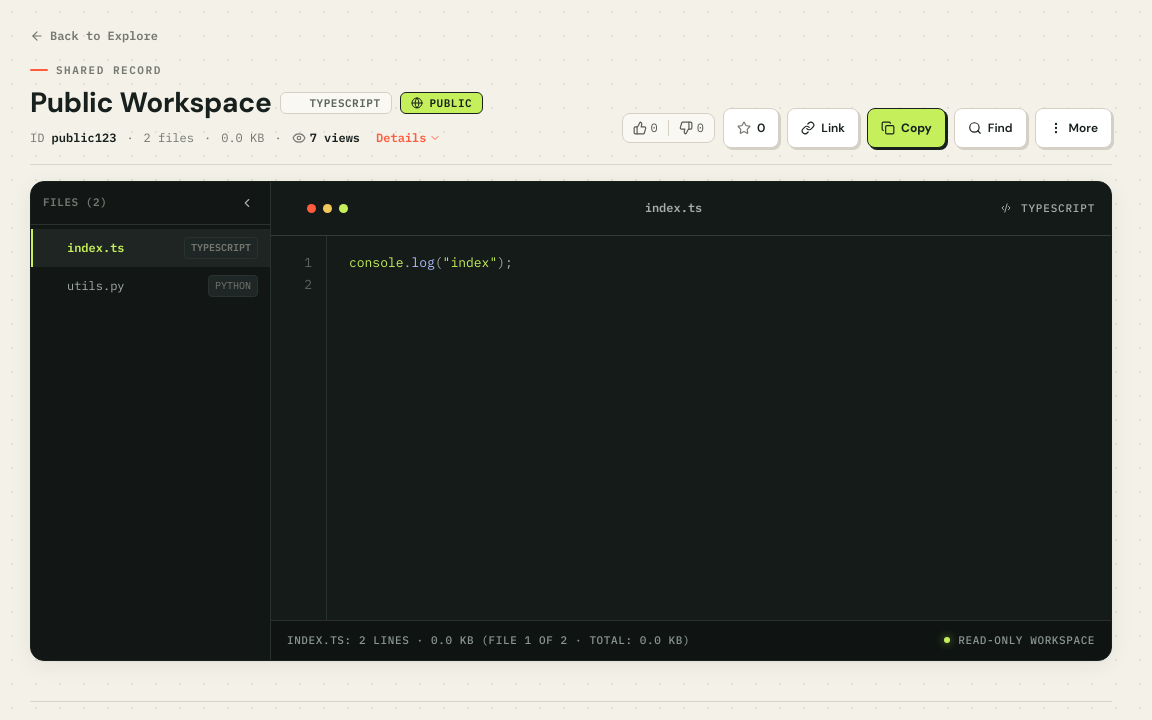
Test: Sharing Everywhere UI › CLIP-02: clipboard denial opens the manual-copy dialog, never announces success, and announces failure
Expected: the heading "Public Workspace" is shown, [30,86,272,120]
Click the button named "copy index.ts". click: (906, 128)
box: [867,108,946,148]
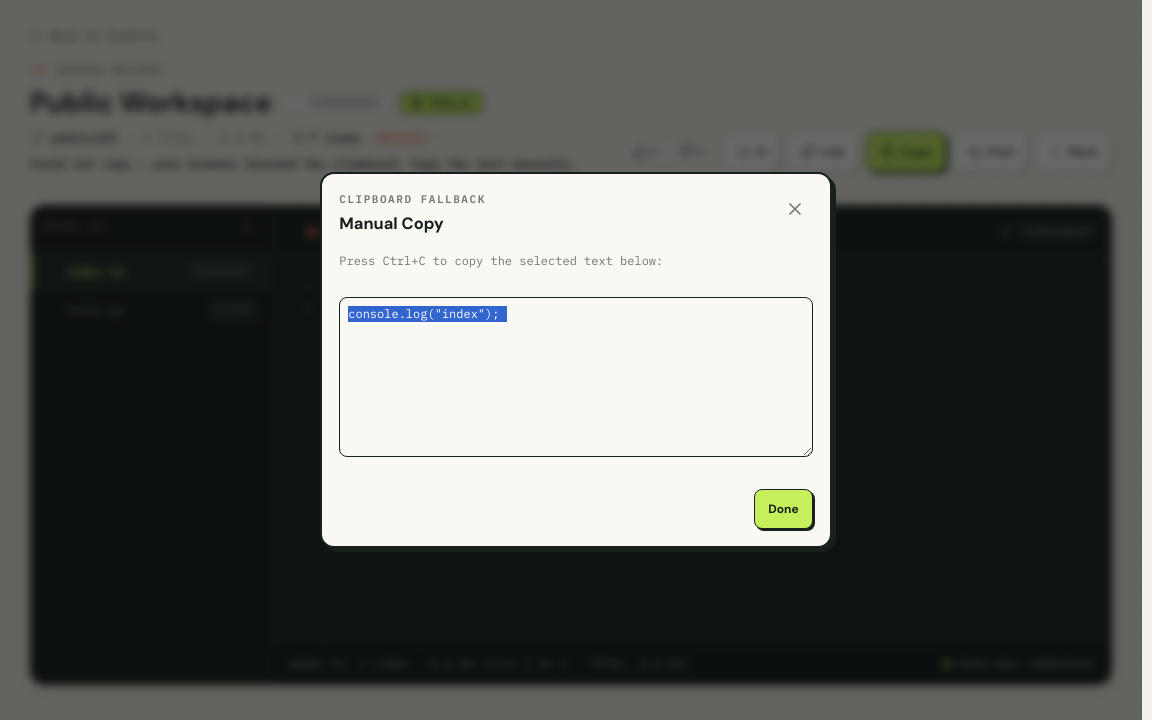
Expected: the message shows "Could not copy", [30,156,577,171]
